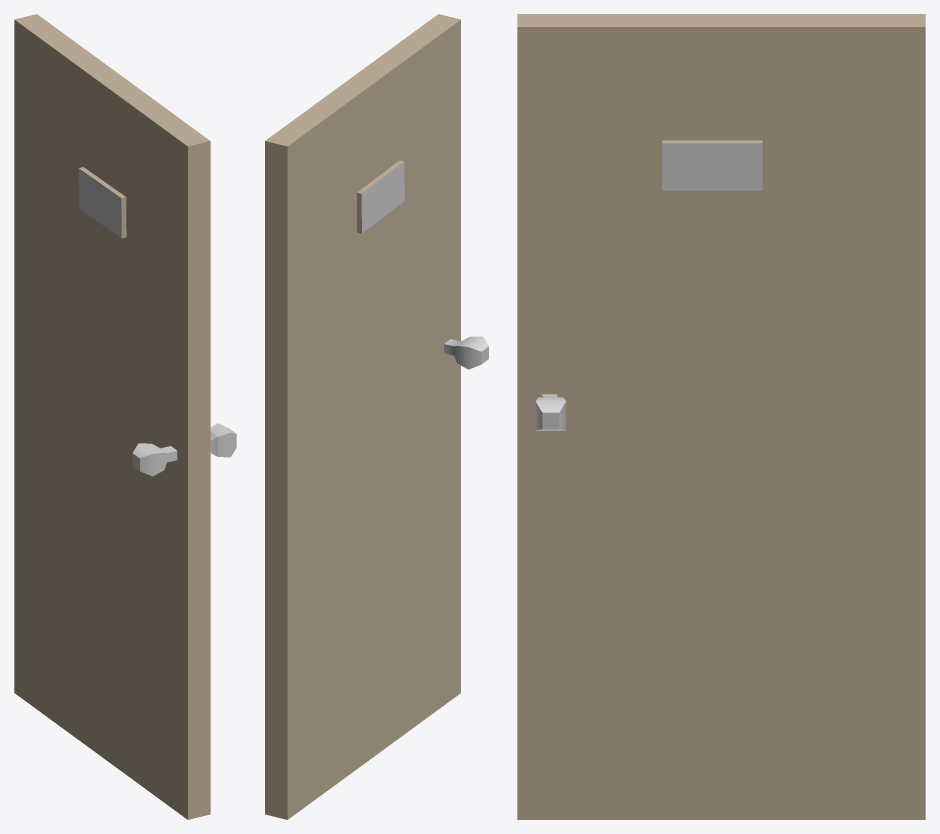
File: single door.fbx
The picture shows the model from 3 angles, left to right: view 1: azimuth 30°, elevation 25°; view 2: azimuth 150°, elevation 25°; view 3: azimuth 270°, elevation 25°; orthographic projection. The views are drawn at different scales.
Parts seen in each view (by area): view 1: pCube1; view 2: pCube1; view 3: pCube1.
Part boxes in pixels (box(x1,y1,x2,y2)): pCube1: box(14, 14, 236, 819); pCube1: box(265, 14, 488, 819); pCube1: box(517, 14, 925, 819).
Bounding box in the file's own units: 0.9991 × 6.61 × 3.09.
